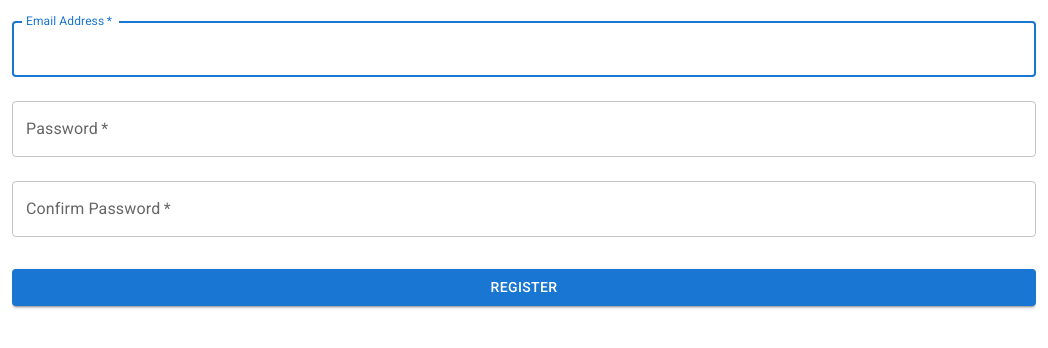
Test case: RegistrationForm › should display validation error if passwords do not match
In the field labelled "Email Address *": (524, 49) [12, 21, 1036, 77], type "test@example.com"
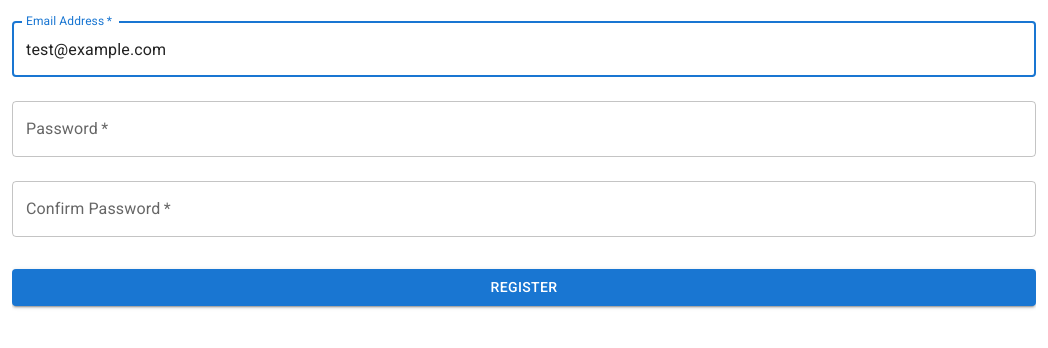
In the password field labelled "Password *": (524, 129) [12, 101, 1036, 157], type "password123"
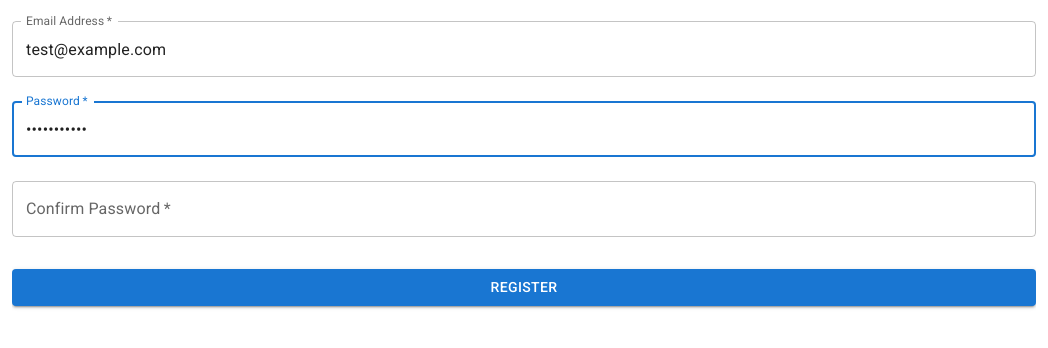
In the password field labelled "Confirm Password *": (524, 209) [12, 181, 1036, 237], type "differentPassword"
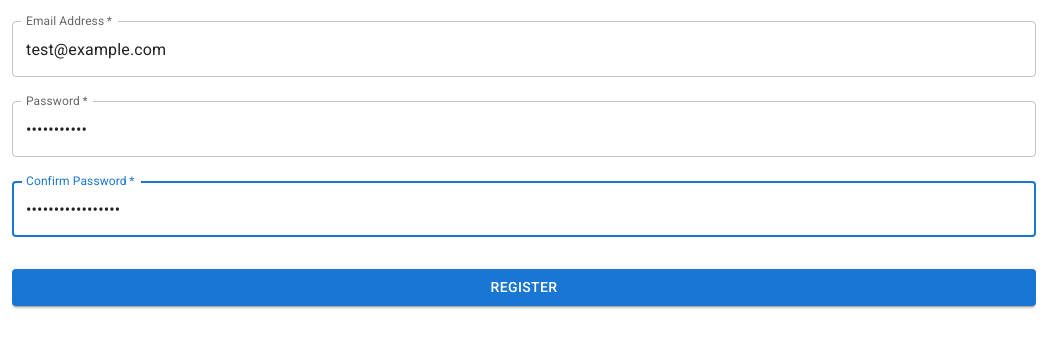
Click the button "Register": (524, 287) [12, 269, 1036, 306]
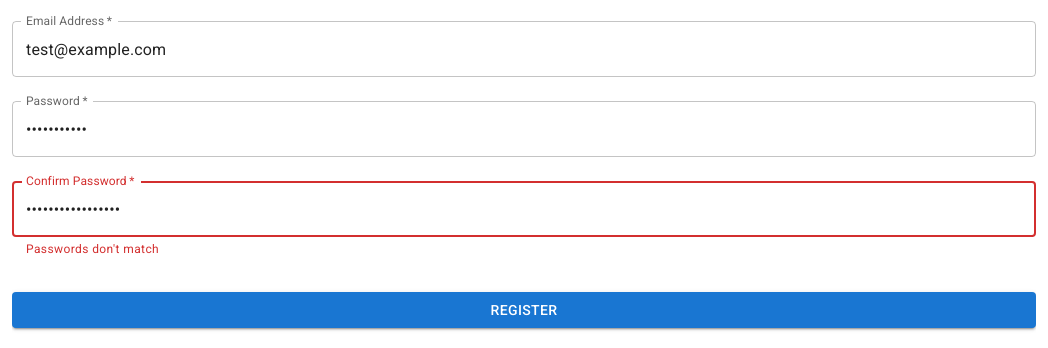
Now the text "Passwords don't match" is shown, box [26, 242, 159, 256]
